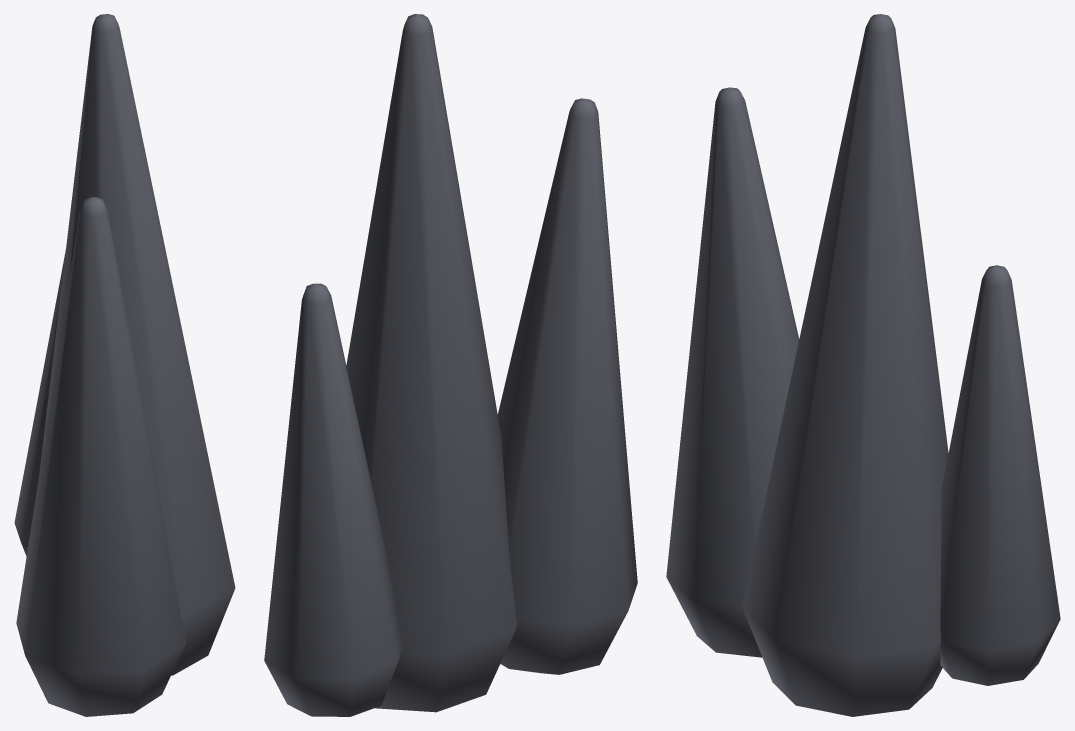
The model's file is prop_stalag4_4ad9.glb.
3 renders of one model, left to right at view 1: azimuth 30°, elevation 25°; view 2: azimuth 150°, elevation 25°; view 3: azimuth 270°, elevation 25°, orthographic. The views are drawn at different scales.
Parts seen in each view (by area): view 1: prop_stalag4_4ad9; view 2: prop_stalag4_4ad9; view 3: prop_stalag4_4ad9.
Part boxes in pixels (bbox=[...]): prop_stalag4_4ad9: bbox=[14, 14, 235, 716]; prop_stalag4_4ad9: bbox=[264, 14, 637, 716]; prop_stalag4_4ad9: bbox=[666, 14, 1060, 716].
Size of the model in its own units: 0.4422 by 1.13 by 0.5843.
1 material, 1 textured.
